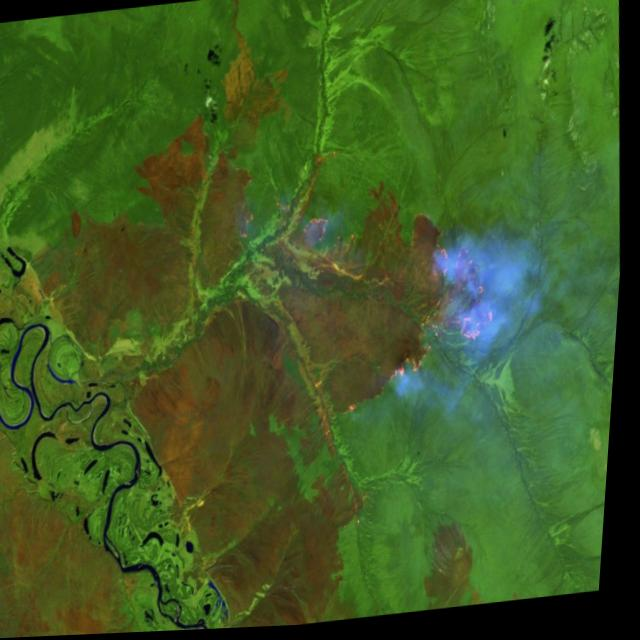fire: (281, 195, 512, 423)
